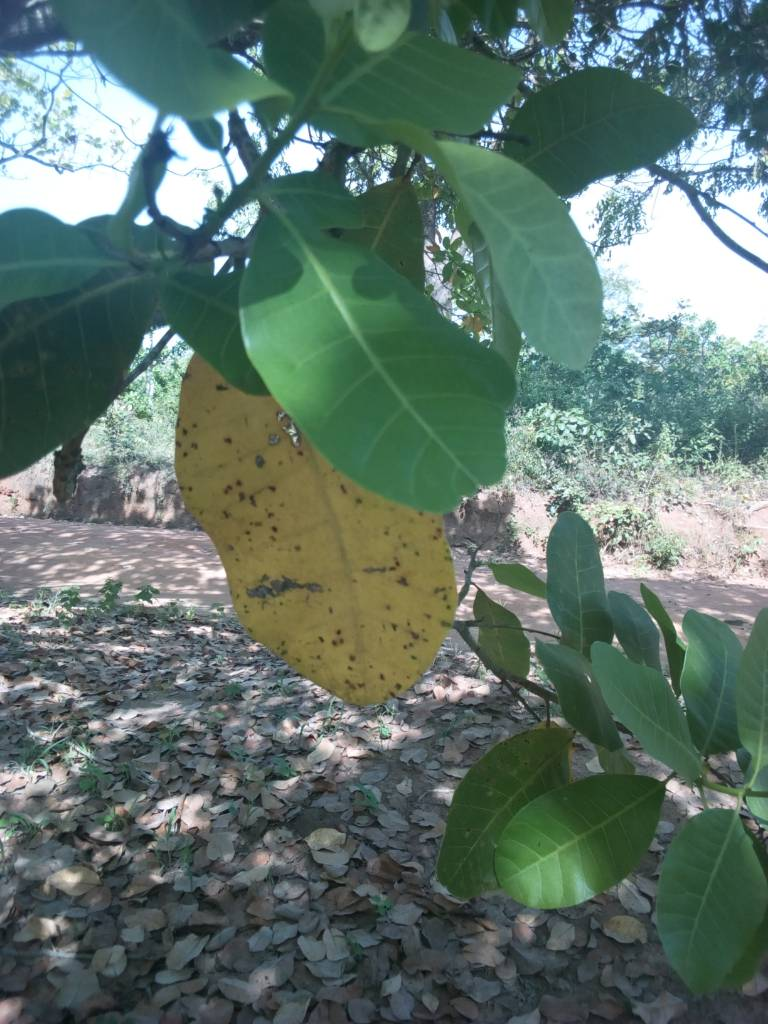Anthracnose: (196, 513, 477, 711)
